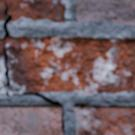brick: (0, 106, 62, 134), (74, 106, 134, 134), (76, 0, 134, 24)
broken_brick: (7, 35, 134, 94), (0, 0, 66, 23), (0, 41, 6, 94)
crack: (0, 2, 64, 132)
